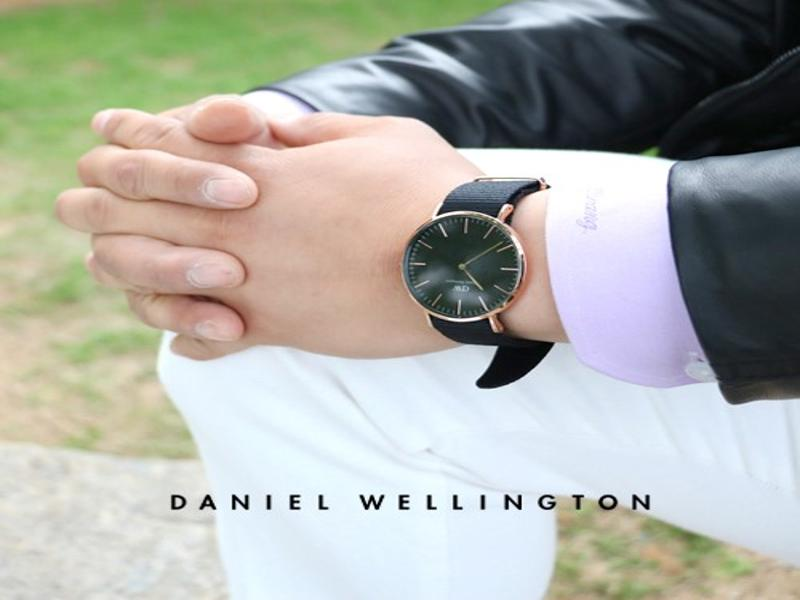watch: (401, 174, 558, 391)
